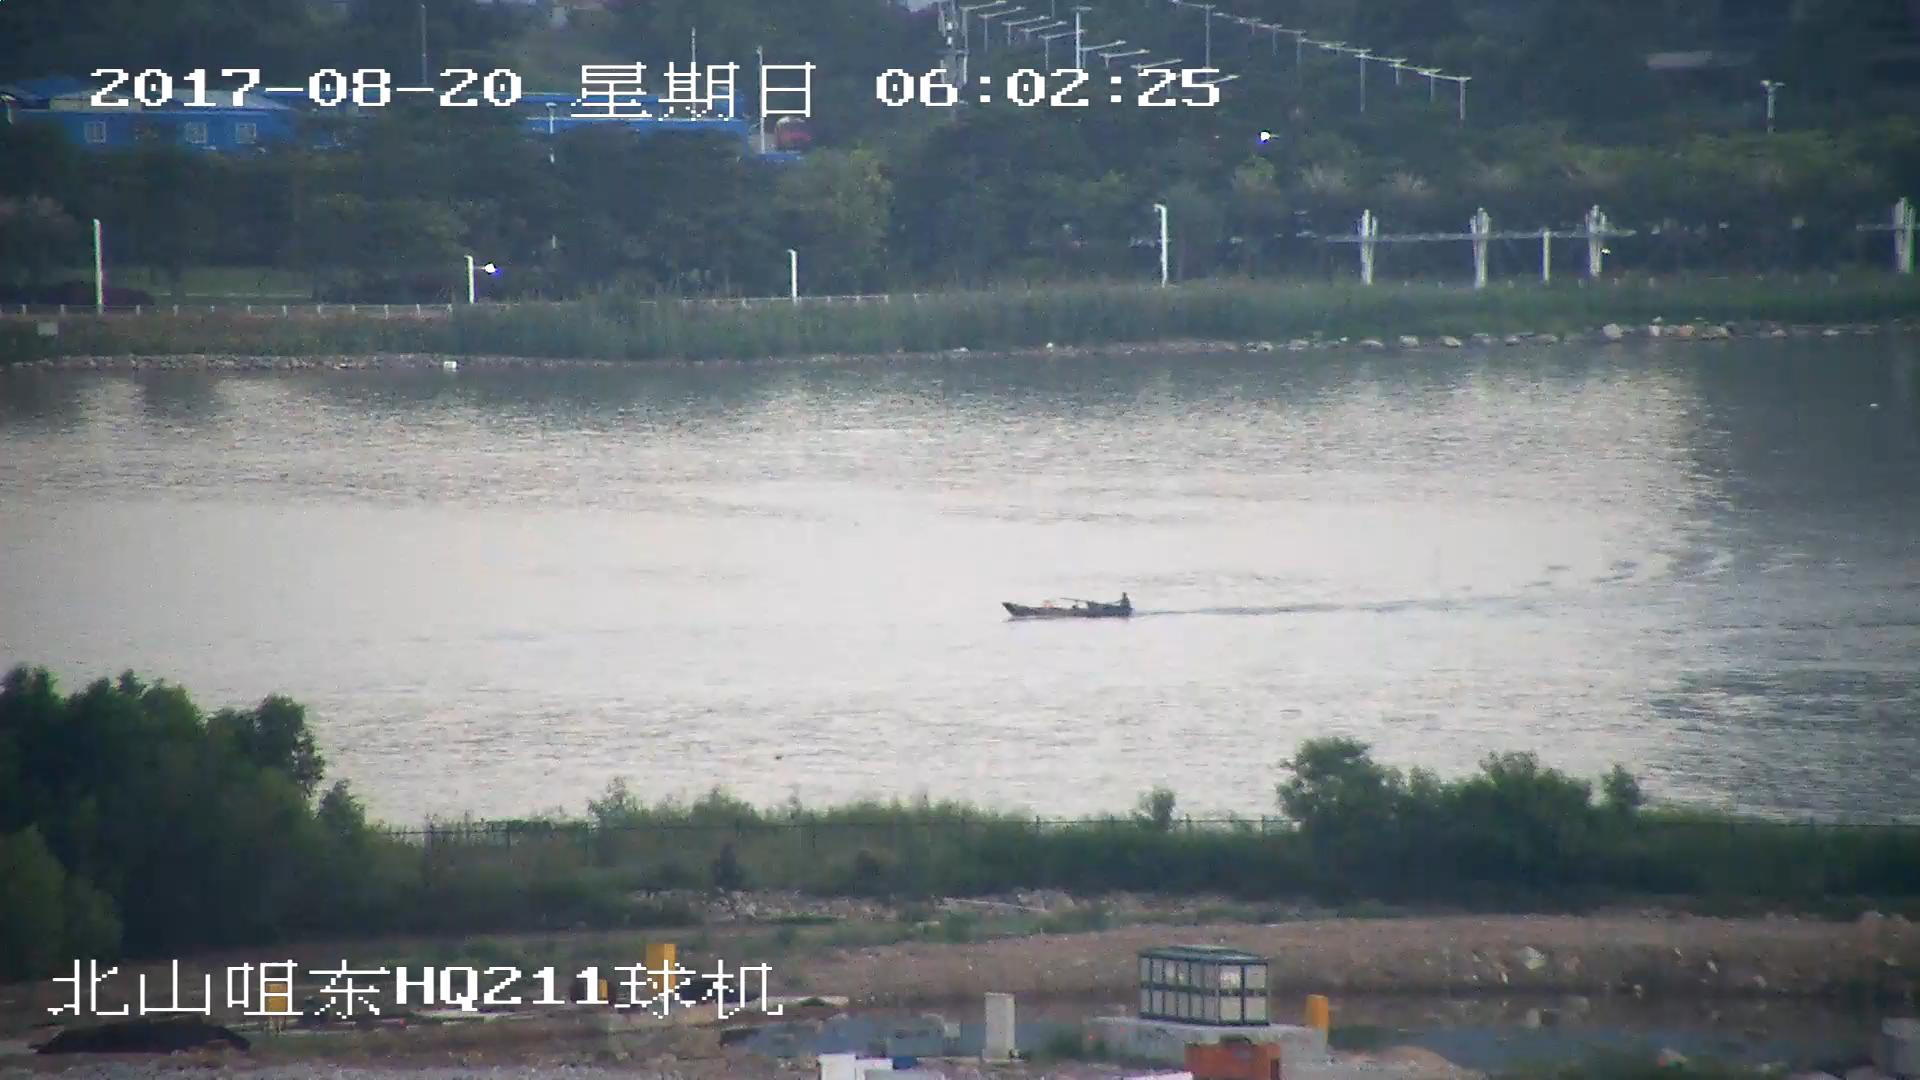fishing boat: (1002, 588, 1142, 617)
